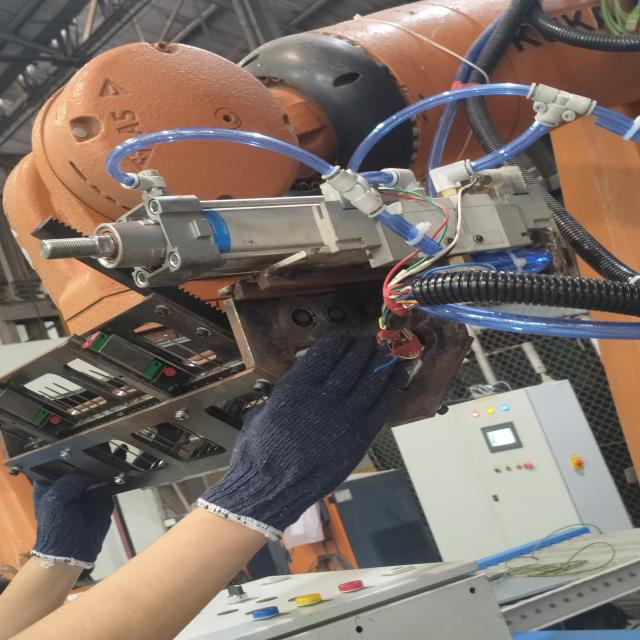Gloves-Detection: (205, 334, 402, 535), (13, 473, 118, 562)
